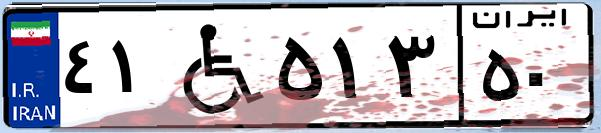0: (525, 38, 570, 115)
1: (330, 28, 385, 110), (110, 28, 158, 98)
3: (385, 28, 445, 110)
4: (57, 26, 110, 100)
5: (270, 28, 330, 110), (475, 38, 525, 113)
ژ (معلولین و جانبازان): (158, 12, 270, 120)
